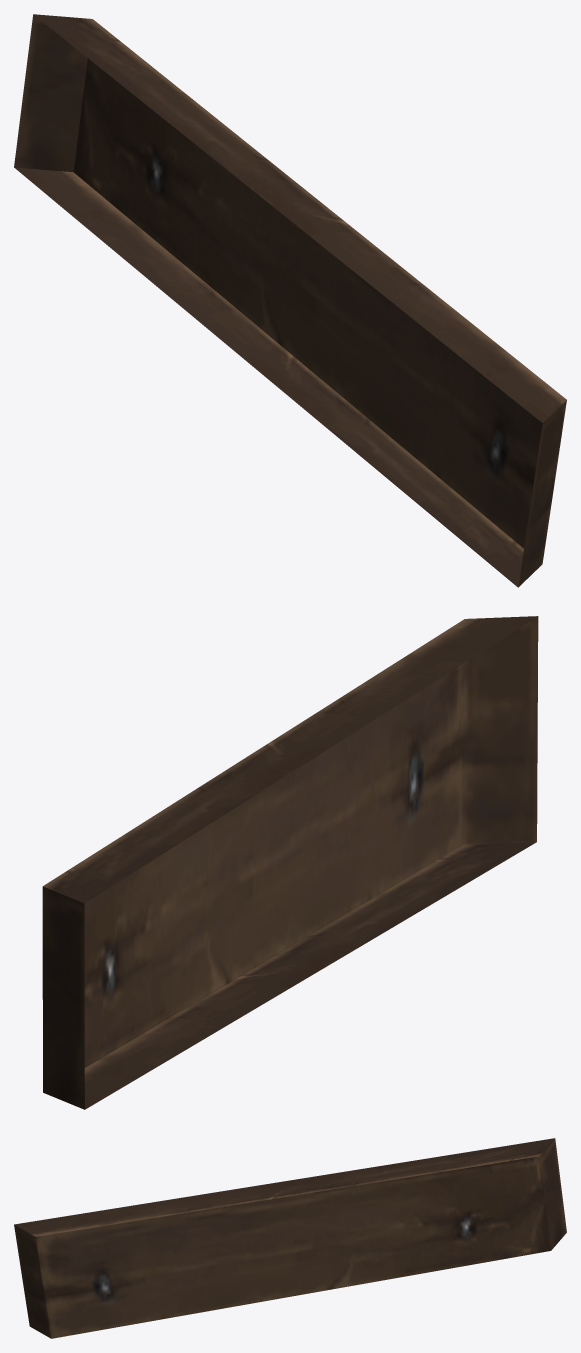
The model's file is 6002_Item_muban_3.FBX.
The picture shows the model from 3 angles, top to bottom: view 1: azimuth 30°, elevation 25°; view 2: azimuth 150°, elevation 25°; view 3: azimuth 270°, elevation 25°; orthographic projection. The views are drawn at different scales.
Visible parts, largest first — view 1: 6002_Item_muban_3; view 2: 6002_Item_muban_3; view 3: 6002_Item_muban_3.
Boxes of the visible parts, x1=… form: 6002_Item_muban_3: x1=14, y1=14, x2=566, y2=587; 6002_Item_muban_3: x1=42, y1=616, x2=538, y2=1109; 6002_Item_muban_3: x1=14, y1=1138, x2=566, y2=1338.
Size of the model in its own units: 35.22 by 75.86 by 223.
